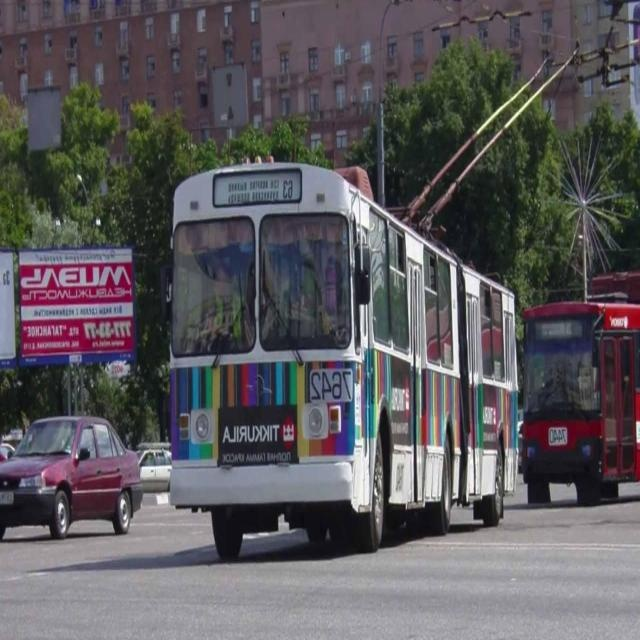Bus: (164, 155, 519, 554), (519, 291, 640, 508)
